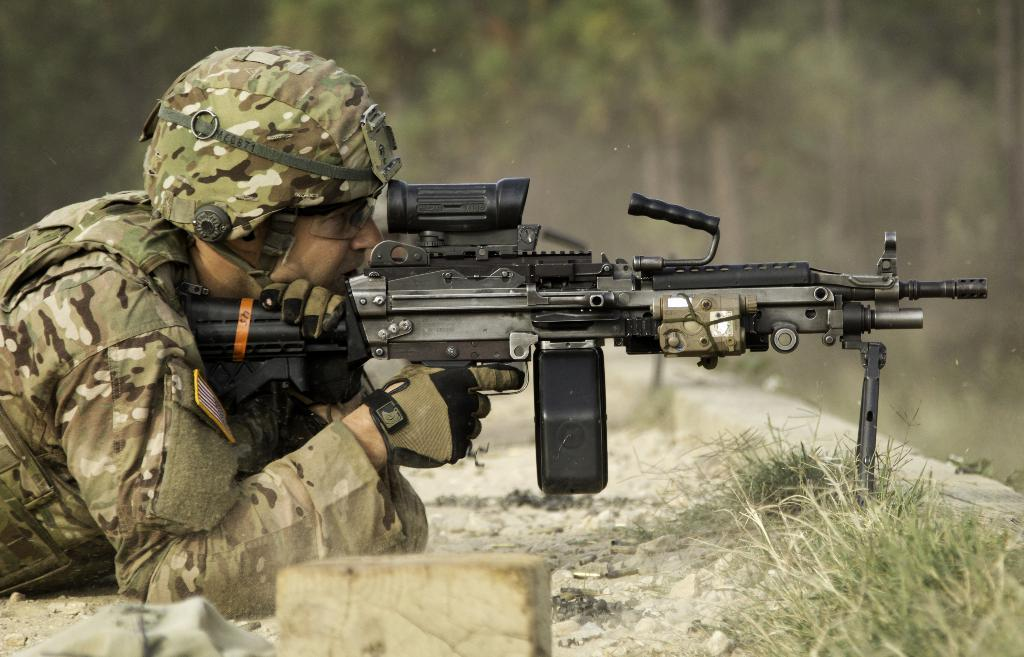Rifle: (182, 179, 986, 510)
